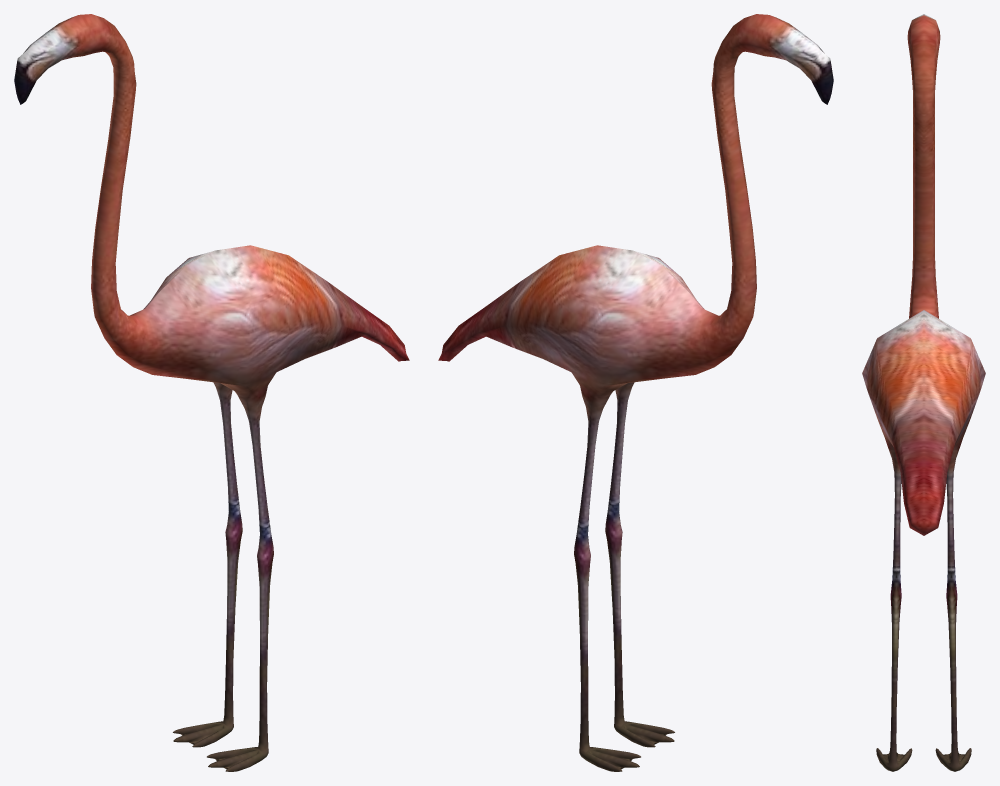
The model's file is flamenco.FBX.
The picture shows the model from 3 angles, left to right: view 1: azimuth 30°, elevation 25°; view 2: azimuth 150°, elevation 25°; view 3: azimuth 270°, elevation 25°; orthographic projection. The views are drawn at different scales.
Parts seen in each view (by area): view 1: Plane01; view 2: Plane01; view 3: Plane01.
Part boxes in pixels (<box>): Plane01: <box>14,14,409,771</box>; Plane01: <box>438,14,833,771</box>; Plane01: <box>862,14,985,771</box>.
Size of the model in its own units: 96.79 by 182 by 29.91.
1 material, 1 textured.
